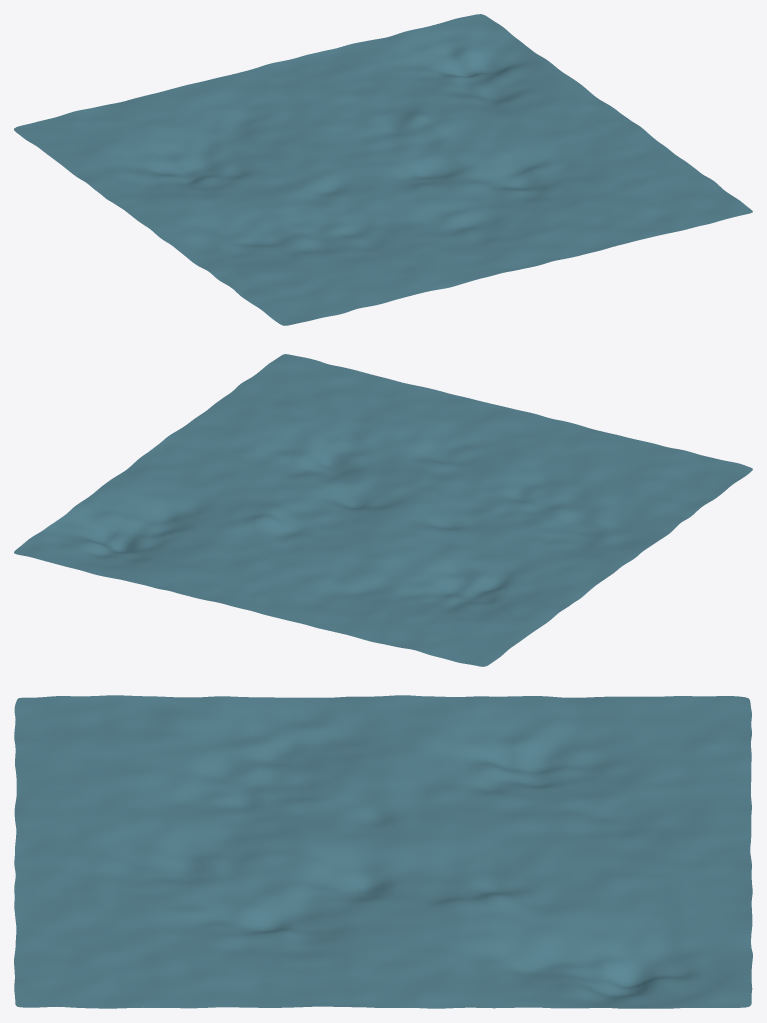
File: Sm_PisoAgua.fbx
The picture shows the model from 3 angles, top to bottom: view 1: azimuth 30°, elevation 25°; view 2: azimuth 150°, elevation 25°; view 3: azimuth 270°, elevation 25°; orthographic projection. The views are drawn at different scales.
Visible parts, largest first — view 1: Sm_PisoAgua; view 2: Sm_PisoAgua; view 3: Sm_PisoAgua.
Part boxes in pixels (x1,y1,x2,y2): Sm_PisoAgua: [14, 14, 752, 325]; Sm_PisoAgua: [14, 354, 752, 666]; Sm_PisoAgua: [14, 695, 752, 1008].
Bounding box in the file's own units: 948 × 37.72 × 948.
